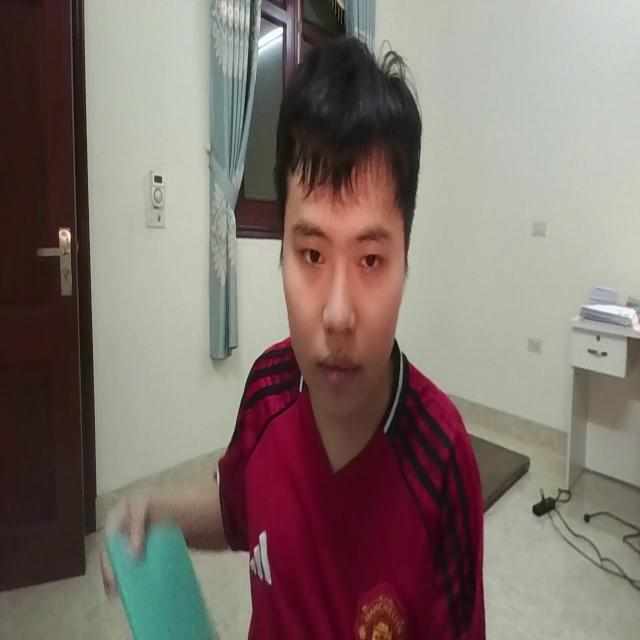book: (106, 515, 223, 640)
student: (97, 26, 488, 640)
